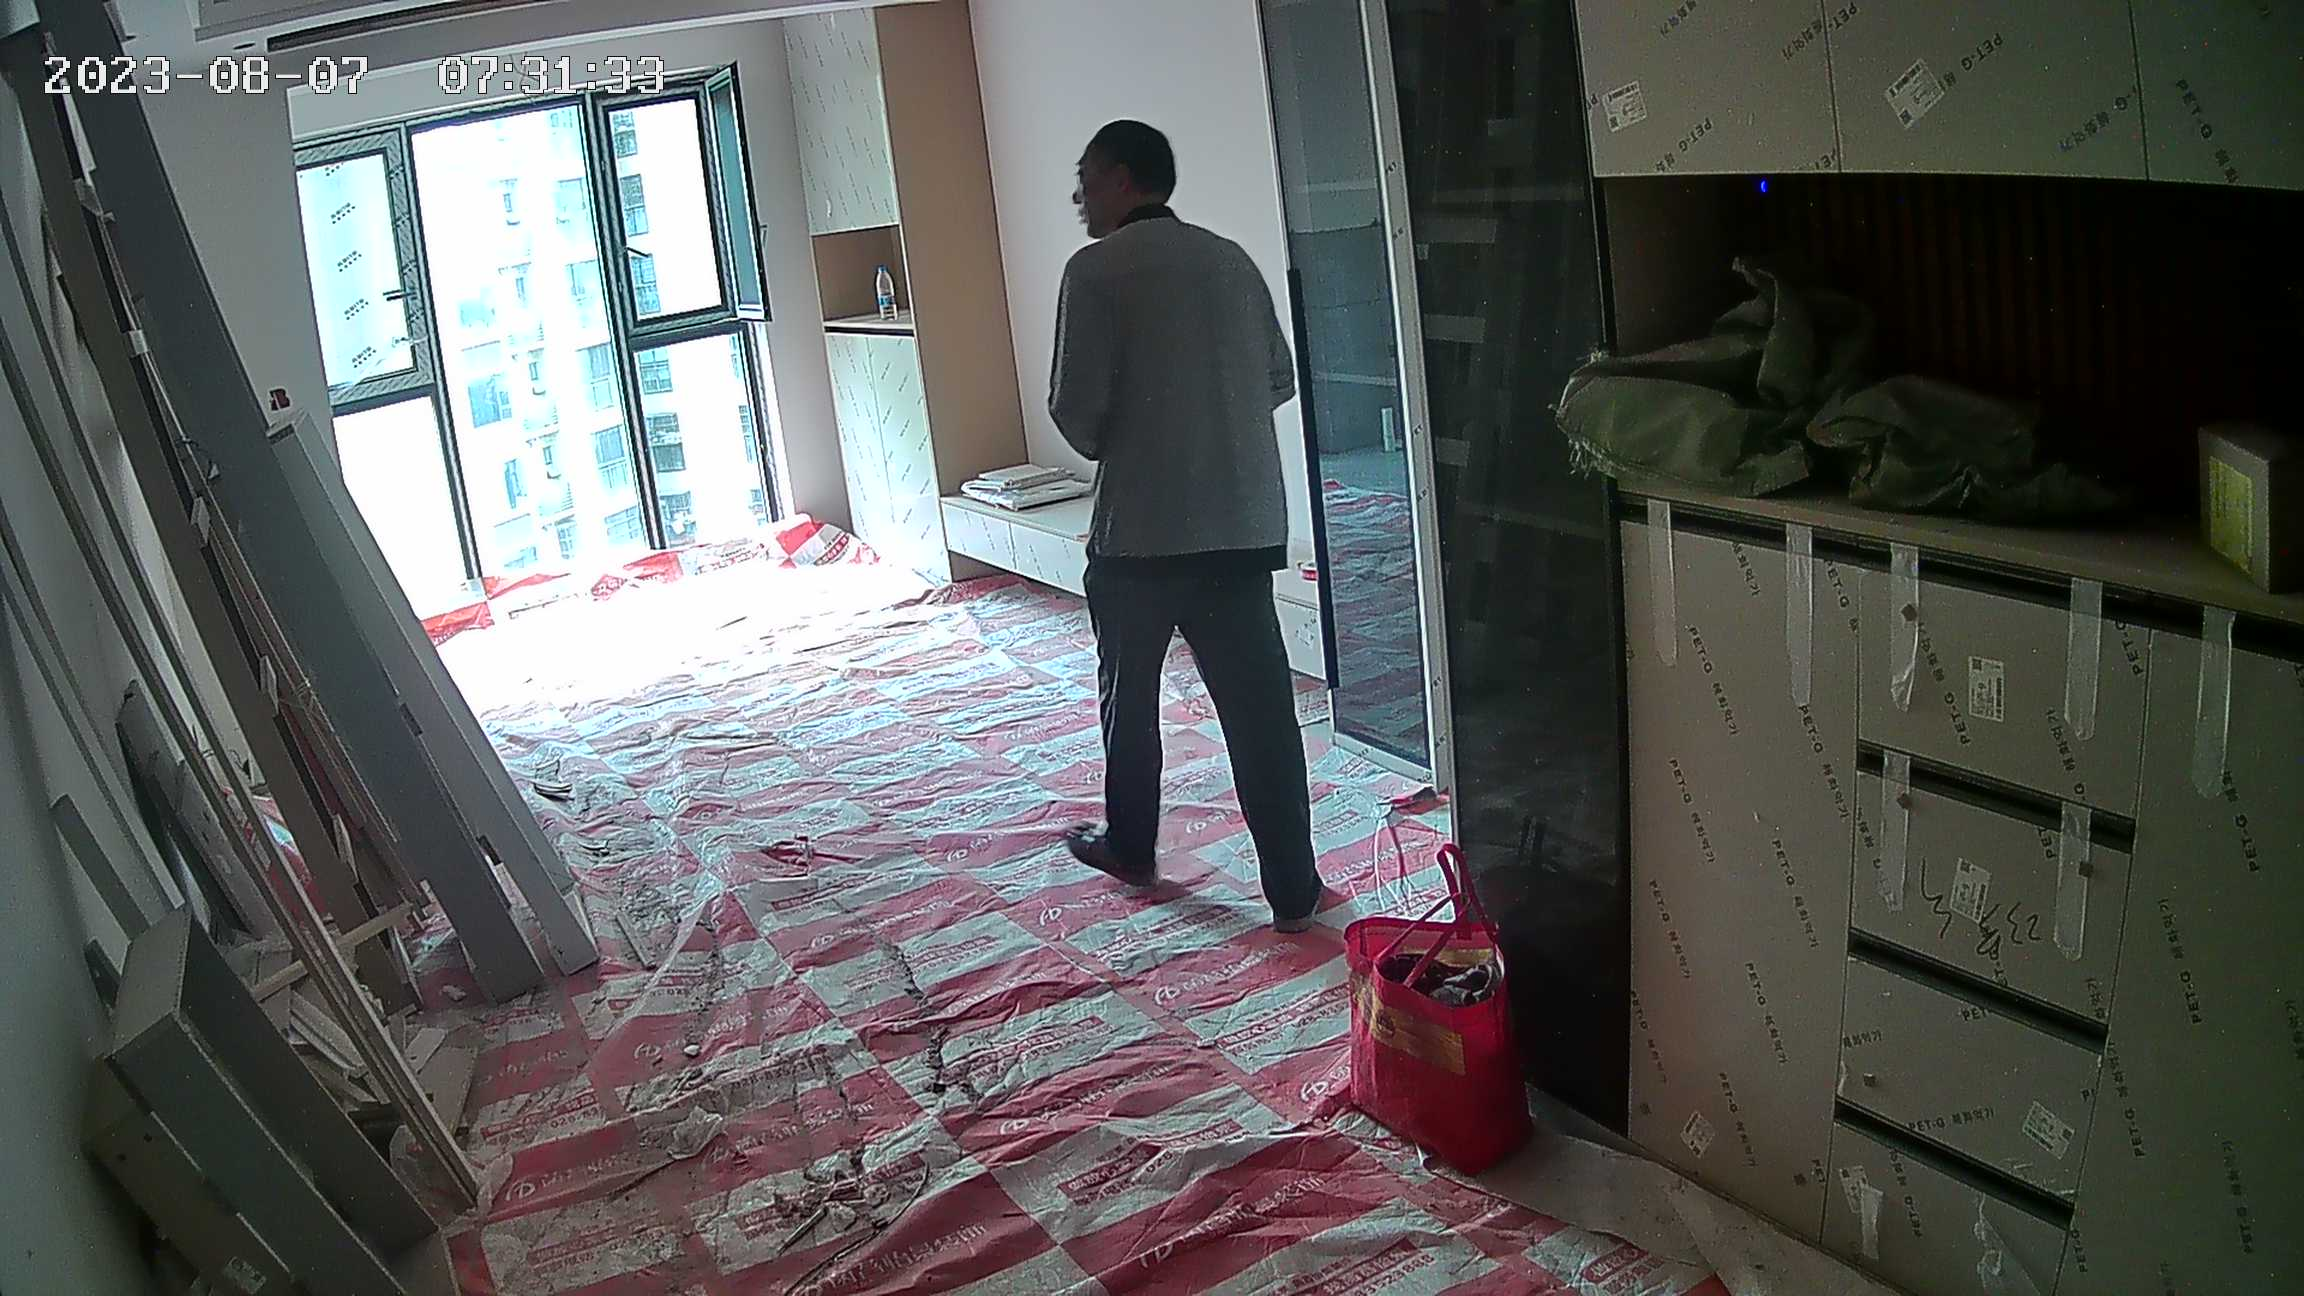people: (1027, 106, 1346, 930)
window: (267, 61, 850, 594)
